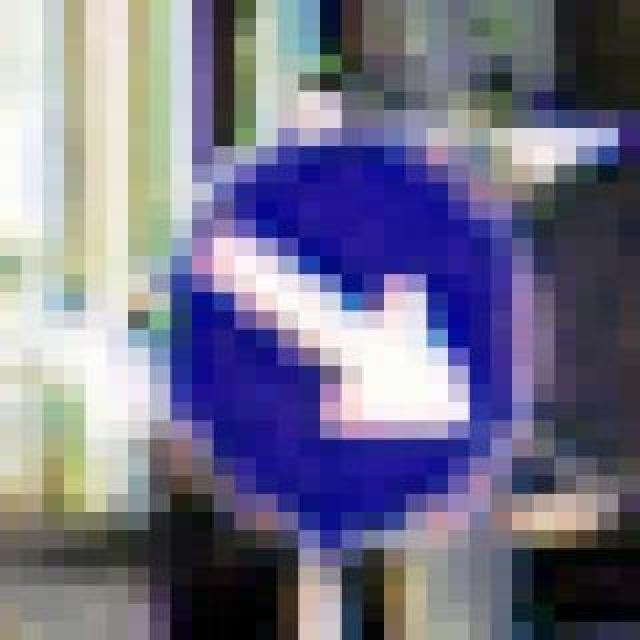keep right: (108, 110, 534, 530)
